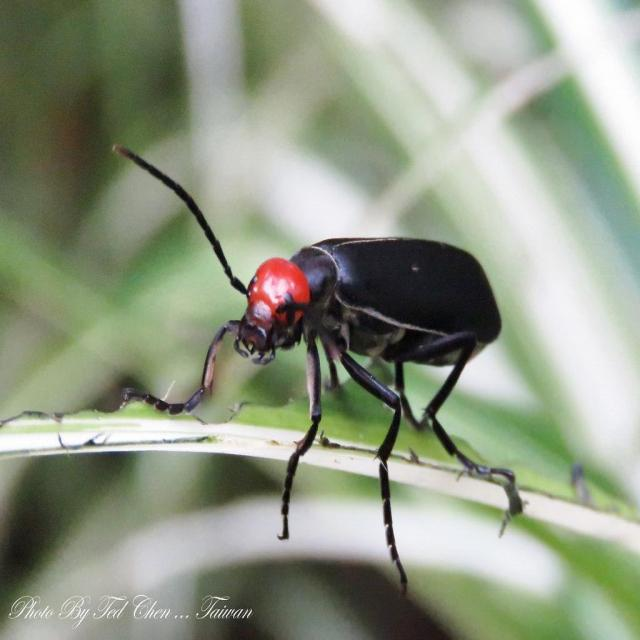BlisterBeetle-Adult-: (78, 125, 530, 590)
